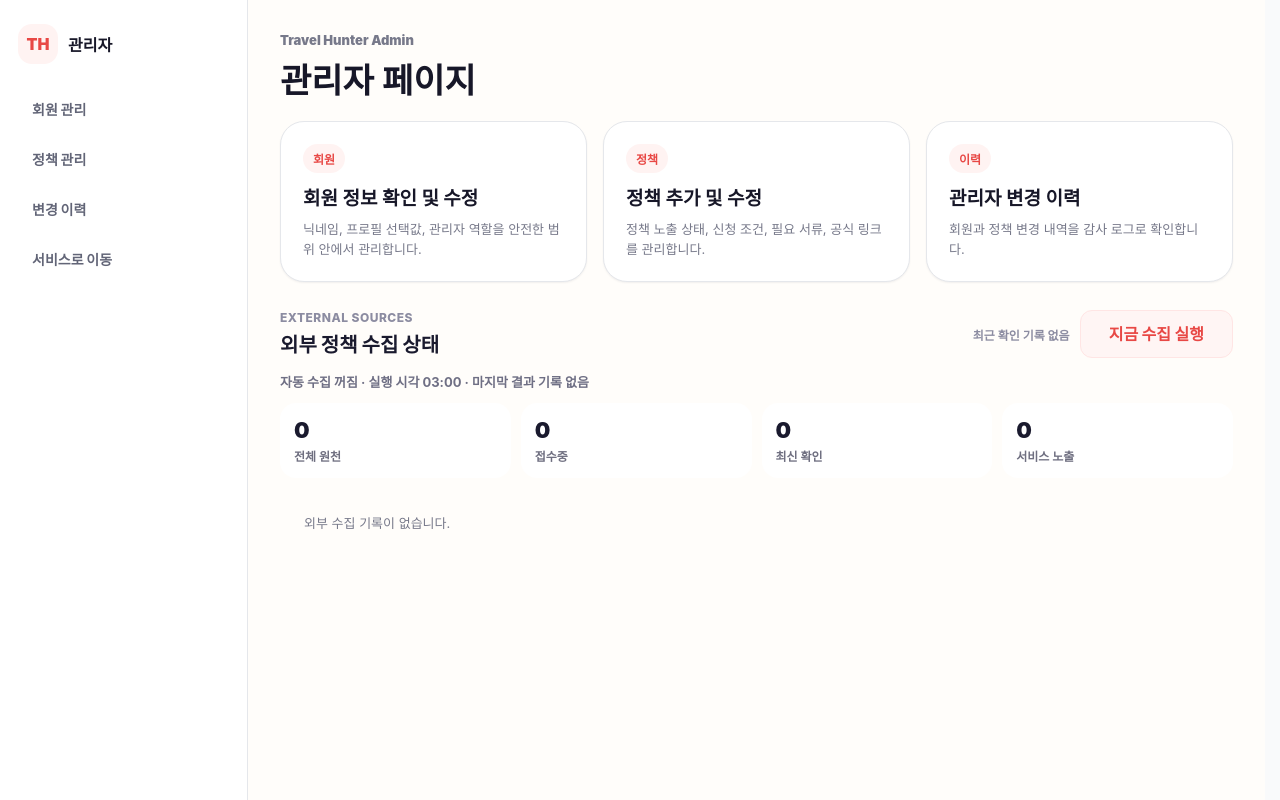
Test: admin pages › runs external policy collection from the admin dashboard
The image size is (1280, 800).
Click the button "지금 수집 실행": [1156, 334] box [1080,310,1233,358]
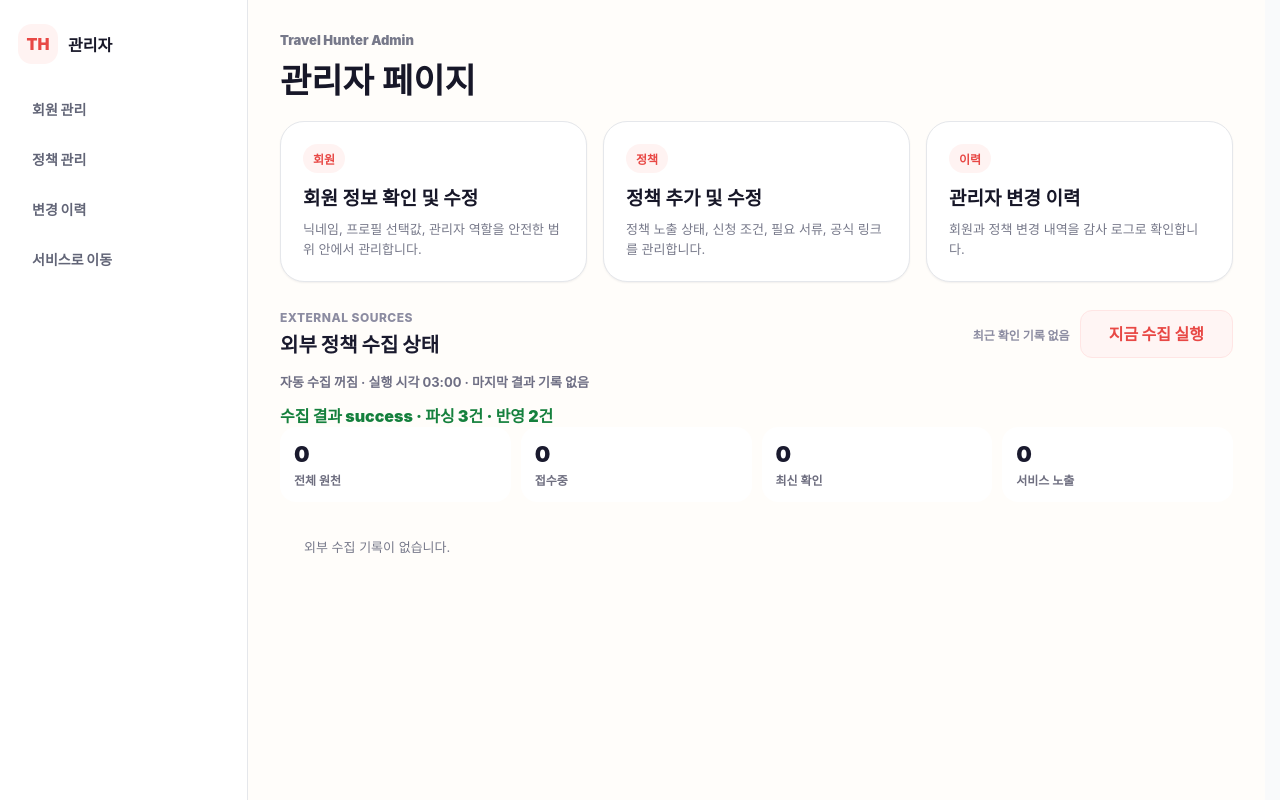
Expected: the text "수집 결과 success" is shown, [280,406,553,426]
